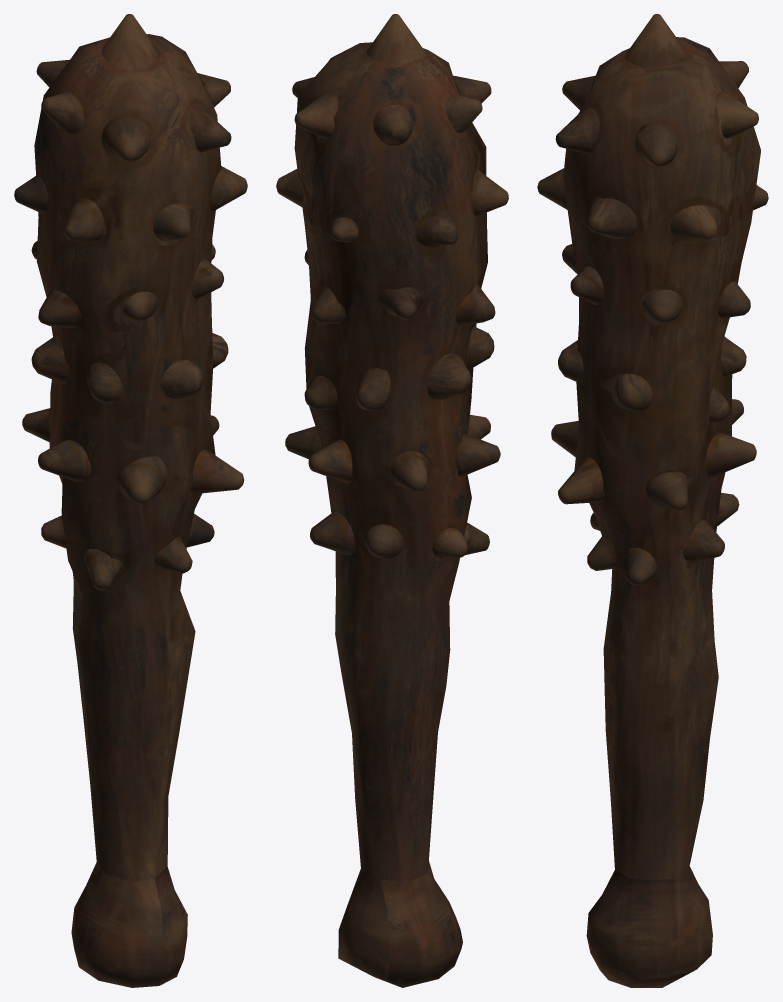
File: bangmang.fbx
3 renders of one model, left to right at view 1: azimuth 30°, elevation 25°; view 2: azimuth 150°, elevation 25°; view 3: azimuth 270°, elevation 25°, orthographic.
Parts seen in each view (by area): view 1: bangmang_low; view 2: bangmang_low; view 3: bangmang_low.
Part boxes in pixels (<box>): bangmang_low: <box>14,14,247,987</box>; bangmang_low: <box>276,14,508,987</box>; bangmang_low: <box>537,14,768,987</box>.
Size of the model in its own units: 19.68 by 90.97 by 19.9.
